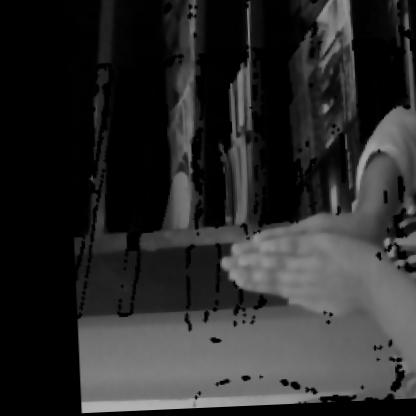namaste: (209, 172, 405, 345)
